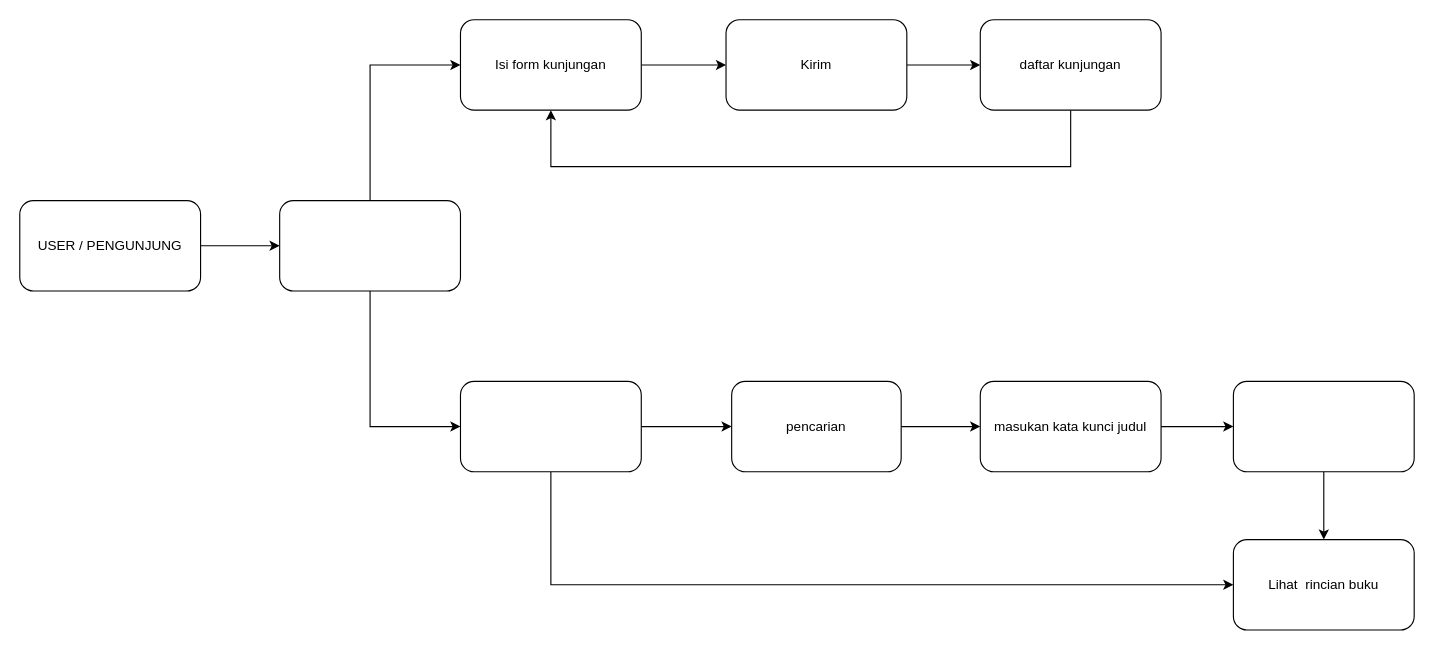
The diagram is 1434 pixels wide and 650 high, and some of its shapes have lost their labels. Each missing label, with the box of its shape:
daftar buku: (459, 380, 641, 472)
hasil pencarian: (1232, 380, 1414, 472)
Masuk Perpustakaan: (279, 199, 460, 291)
